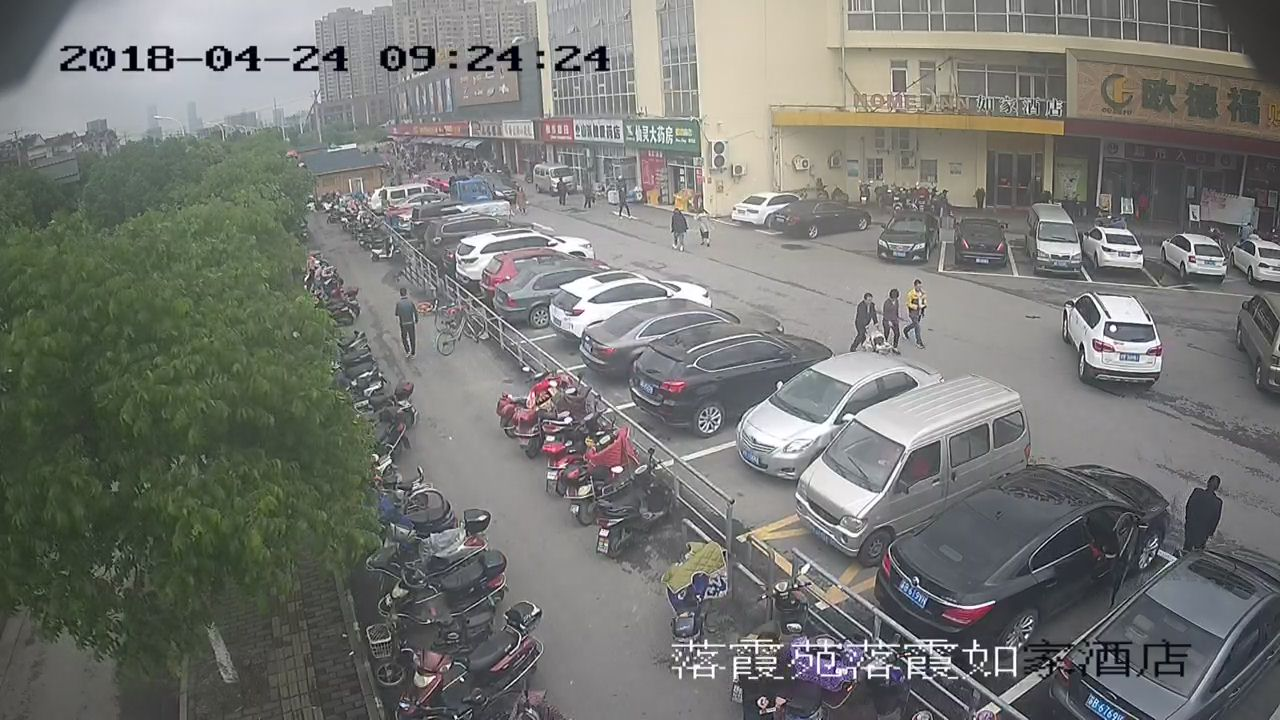window_shielding: (846, 89, 1066, 122), (451, 51, 524, 110), (412, 77, 455, 118)
